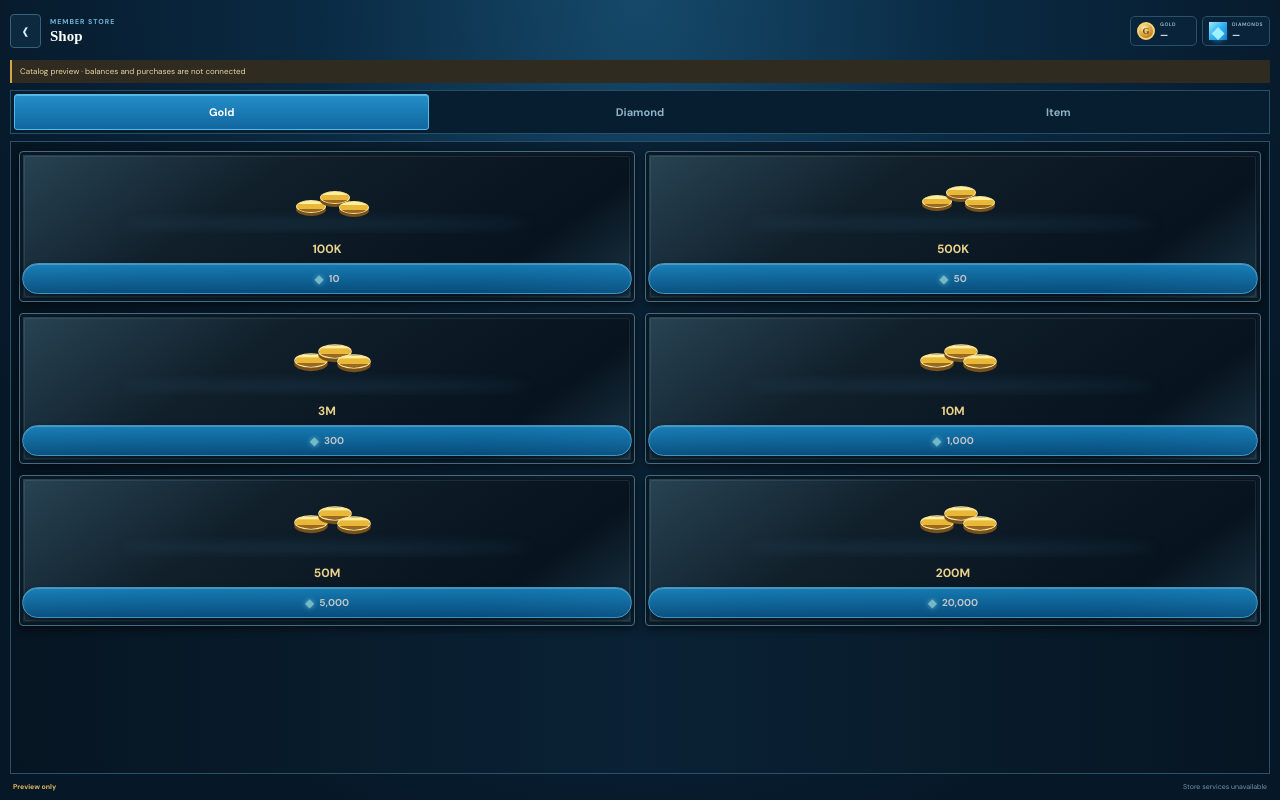
it: ShopComponent › switches between diamond bundles and VIP item durations
Click the tab "Diamond".
click(640, 112)  # box x1=432 y1=94 x2=848 y2=130
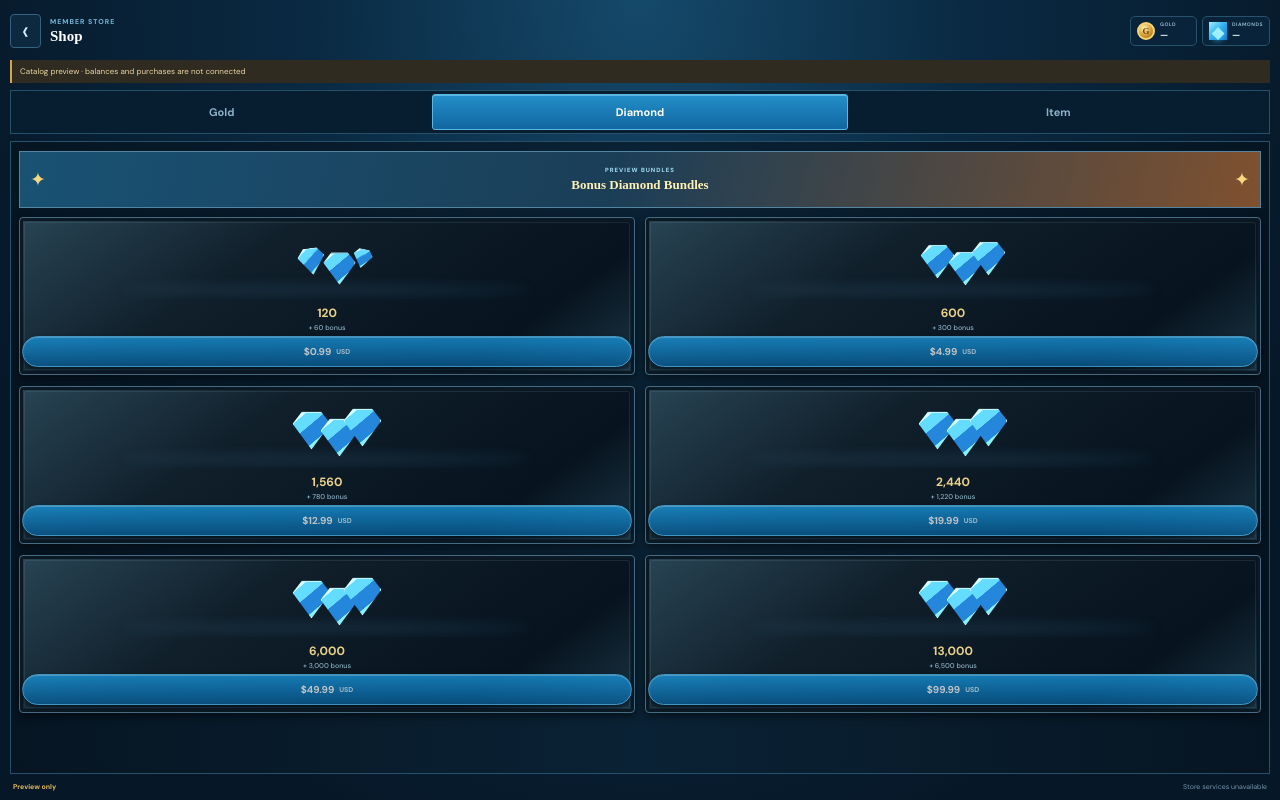
Expected: the number of elements with class "shop-product" is 6, x1=19 y1=217 x2=635 y2=375; x1=645 y1=217 x2=1261 y2=375; x1=19 y1=386 x2=635 y2=544; x1=645 y1=386 x2=1261 y2=544; x1=19 y1=555 x2=635 y2=713; x1=645 y1=555 x2=1261 y2=713
Now the text "Bonus Diamond Bundles" is shown, box x1=571 y1=177 x2=709 y2=193
Now the text "1,560" is shown, box x1=312 y1=474 x2=342 y2=490
Click the tab "Item".
click(1058, 112)  # box x1=851 y1=94 x2=1266 y2=130
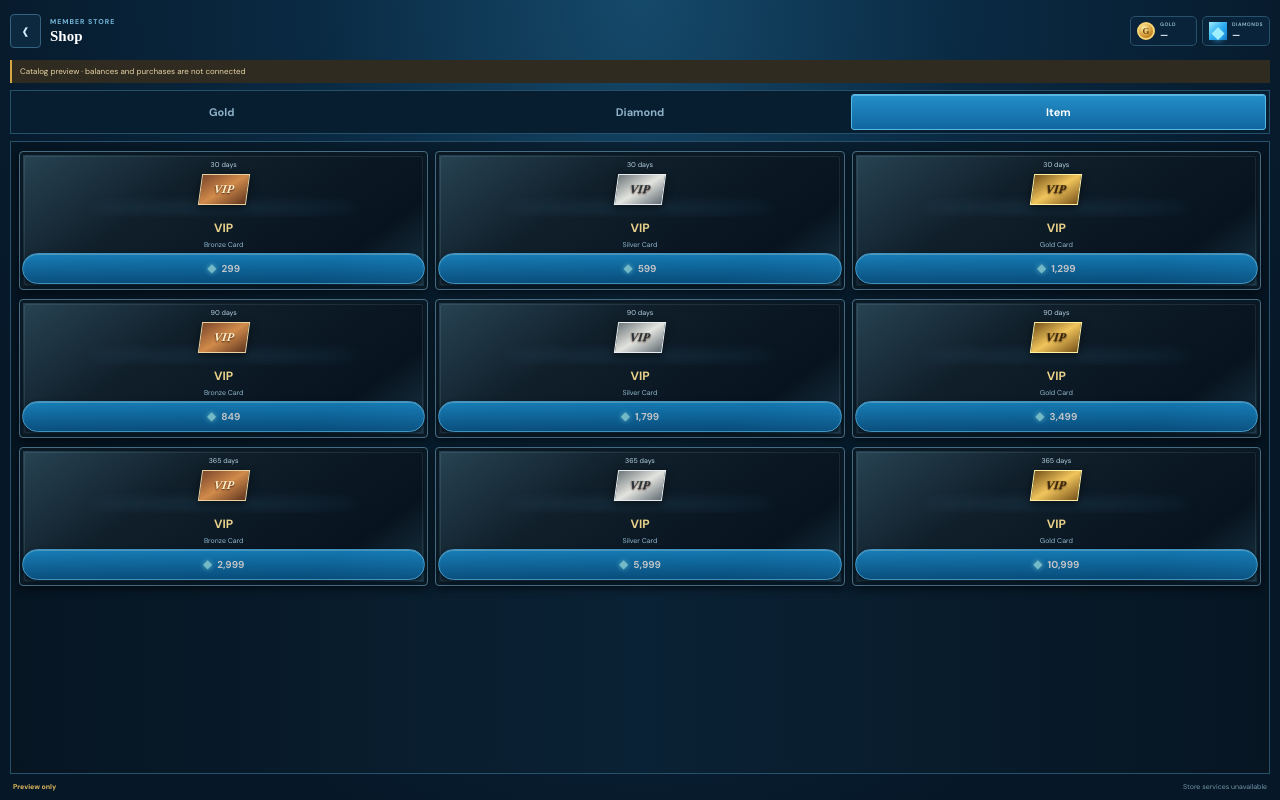
Now the number of elements with class "shop-product" is 9
Now the text "Bronze Card" is shown, box x1=204 y1=240 x2=244 y2=249
Now the text "365 days" is shown, box x1=209 y1=456 x2=238 y2=465
